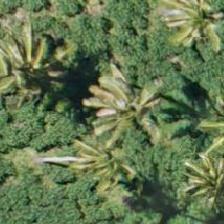coconut_tree: (75, 44, 165, 134), (0, 18, 73, 108), (169, 0, 223, 79), (169, 146, 223, 223)
